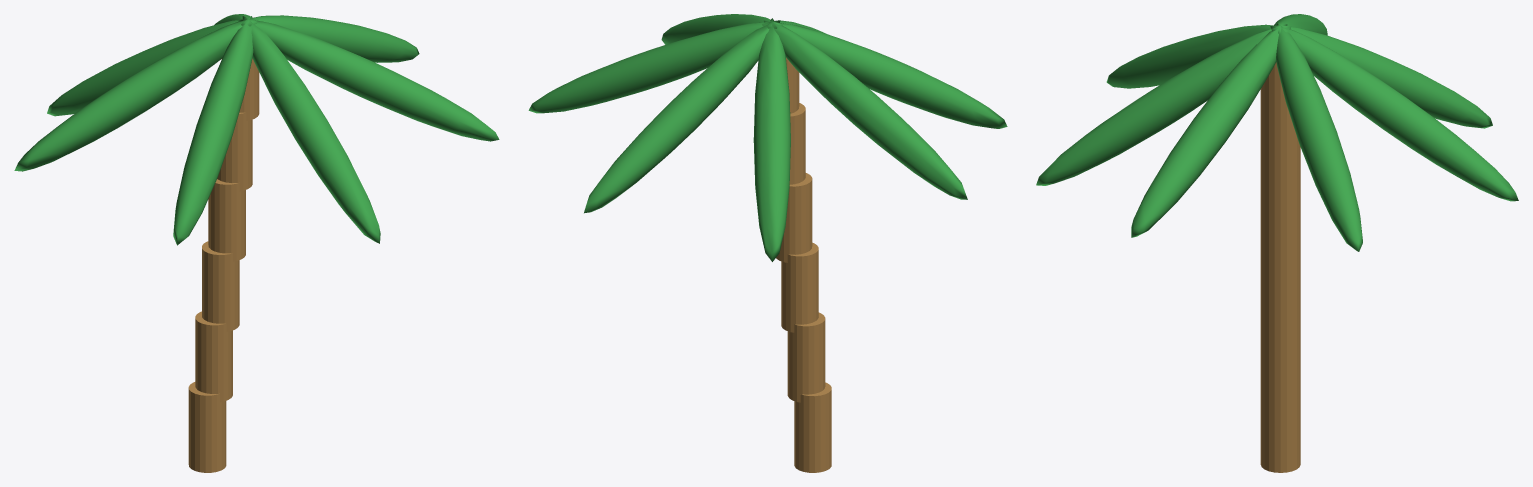
The model's file is tree_palm.glb.
3 renders of one model, left to right at view 1: azimuth 30°, elevation 25°; view 2: azimuth 150°, elevation 25°; view 3: azimuth 270°, elevation 25°, orthographic. The views are drawn at different scales.
Visible parts, largest first — view 1: Sphere, Cylinder; view 2: Sphere, Cylinder; view 3: Sphere, Cylinder.
Boxes of the visible parts, x1,y1,x2,y2 form: Sphere: (14, 14, 499, 245); Cylinder: (188, 58, 259, 472); Sphere: (528, 14, 1007, 261); Cylinder: (776, 57, 831, 472); Sphere: (1036, 14, 1518, 251); Cylinder: (1260, 62, 1300, 472).
Size of the model in its own units: 5.16 by 5.08 by 4.84.
